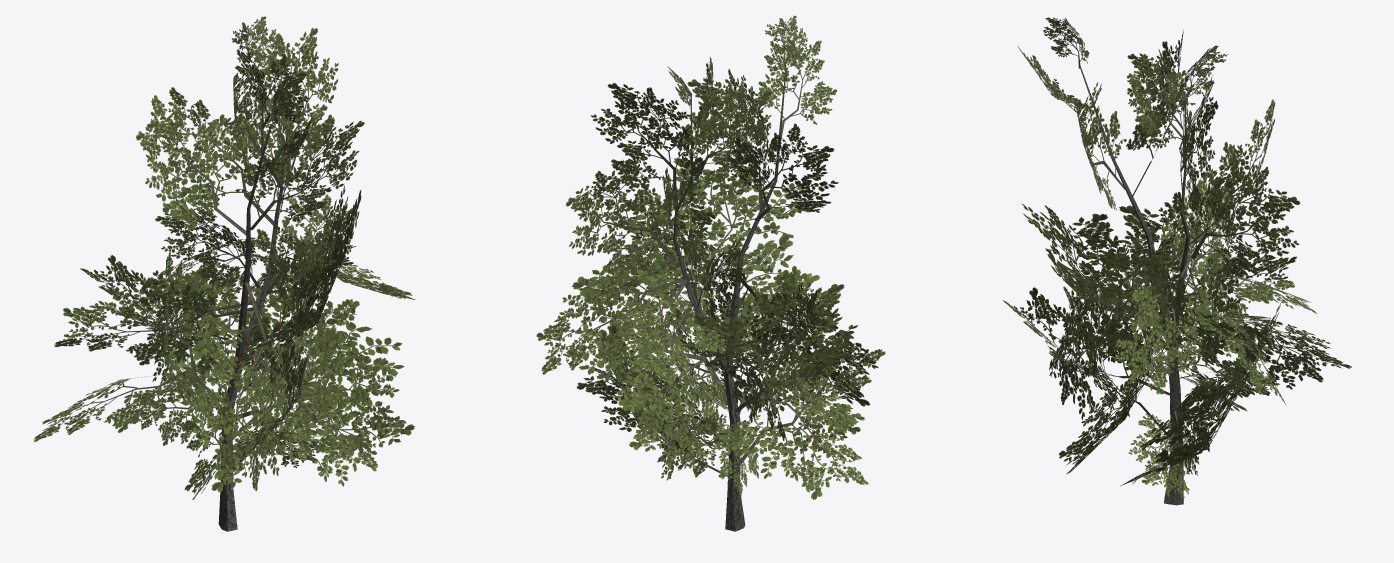
The model's file is tree4.glb.
3 views of the same model, side by side, from view 1: azimuth 30°, elevation 25°; view 2: azimuth 150°, elevation 25°; view 3: azimuth 270°, elevation 25° (orthographic). The views are drawn at different scales.
Parts seen in each view (by area): view 1: Tree-01-4; view 2: Tree-01-4; view 3: Tree-01-4.
Part boxes in pixels (x1,y1,x2,y2): Tree-01-4: (33,16,415,531); Tree-01-4: (536,15,885,531); Tree-01-4: (1002,17,1351,505).
Bounding box in the file's own units: 4.72 × 5.41 × 4.02.
Materials: 3 (3 with a texture image).
